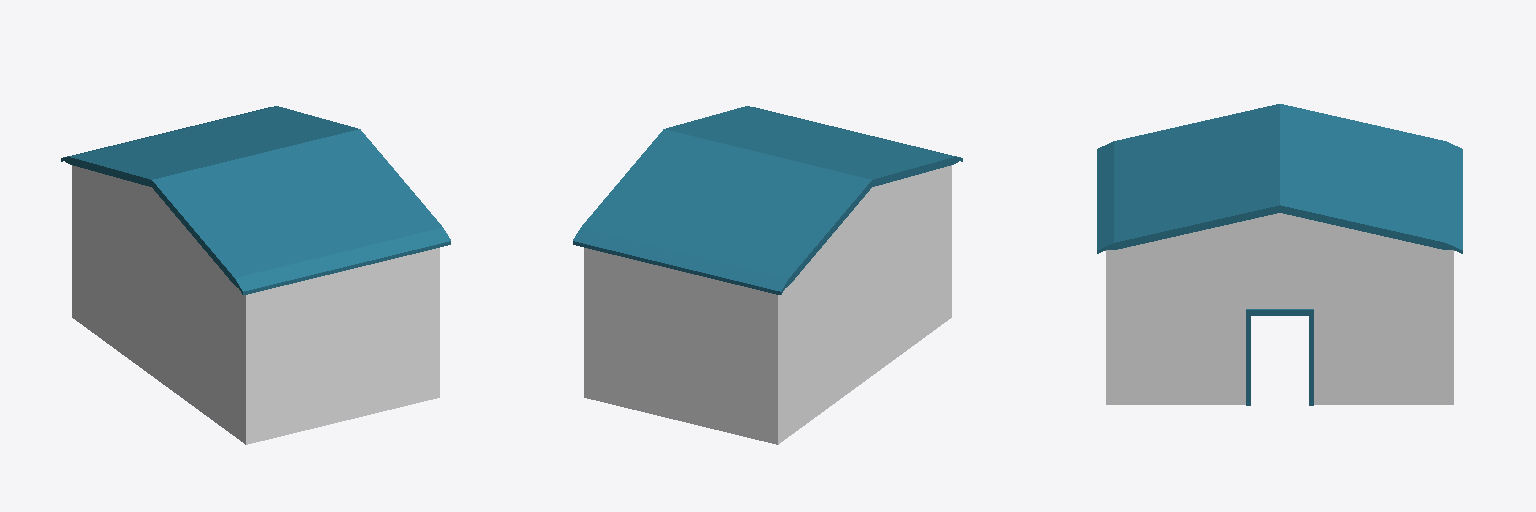
3 renders of one model, left to right at view 1: azimuth 30°, elevation 25°; view 2: azimuth 150°, elevation 25°; view 3: azimuth 270°, elevation 25°, orthographic.
Parts seen in each view (by area): view 1: Shack_Cube; view 2: Shack_Cube; view 3: Shack_Cube.
Part boxes in pixels (bbox=[...]): Shack_Cube: bbox=[61, 106, 450, 444]; Shack_Cube: bbox=[573, 106, 962, 444]; Shack_Cube: bbox=[1097, 104, 1462, 405].
Bounding box in the file's own units: 2.9 × 2.7 × 4.4.
1 materials, 1 textured.